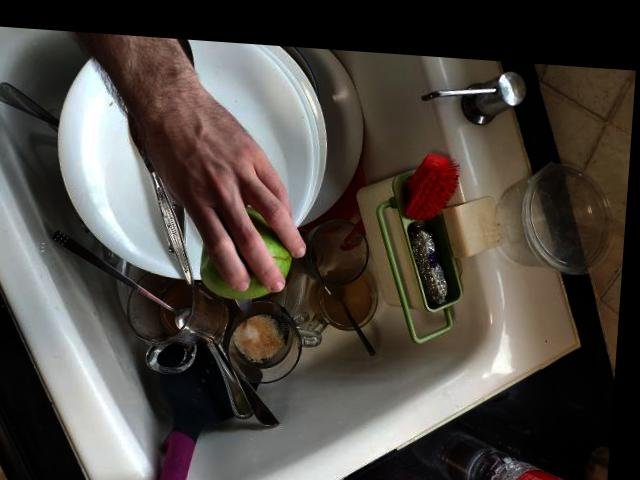apple: (193, 201, 296, 302)
